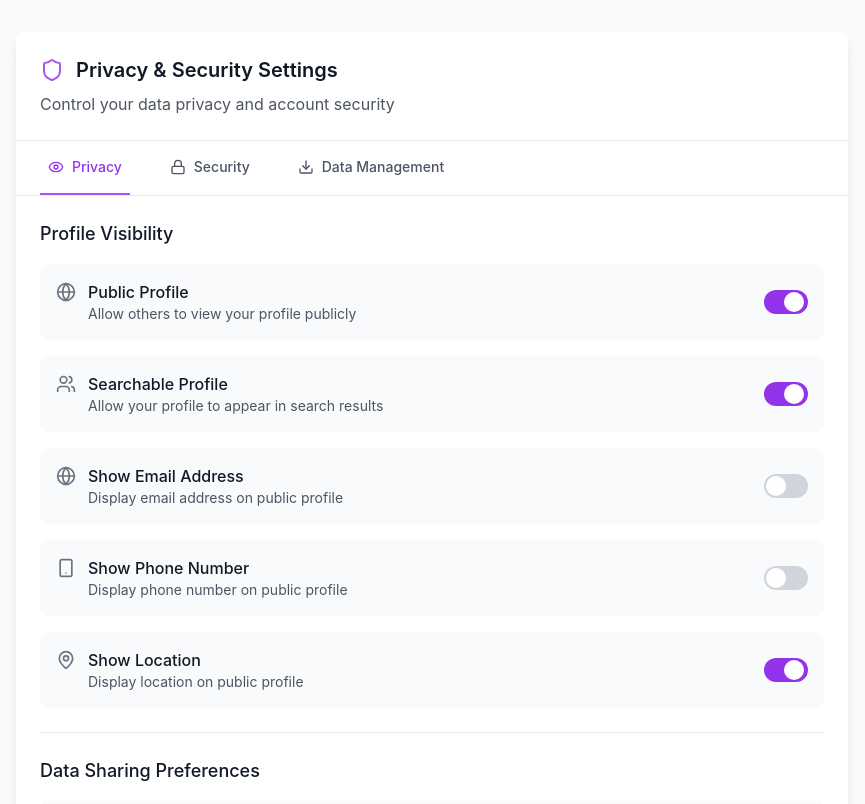
PrivacySettings › Data Management tab › shows Delete Account section
Click the button "Data Management".
click(371, 168)  # box [290, 141, 452, 195]
(page scrolled)
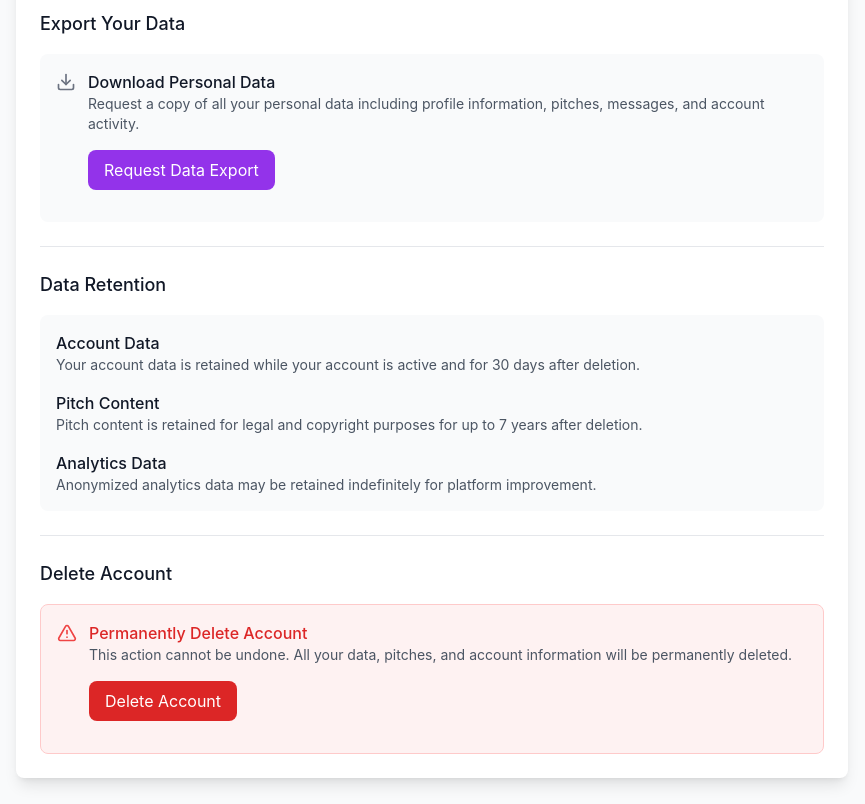
Result: the heading "Permanently Delete Account" is shown at [89, 623, 307, 643]
